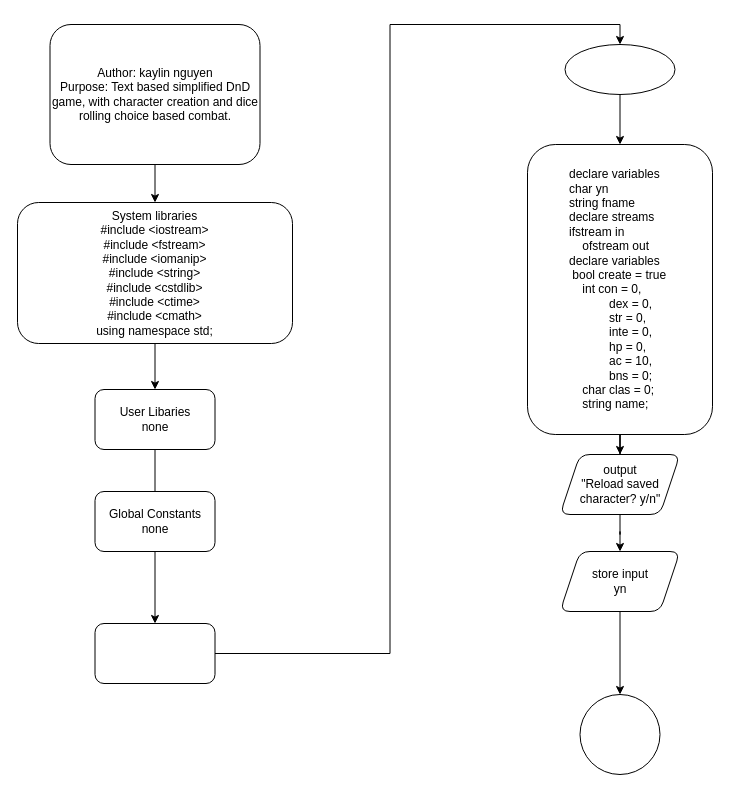
This 730x792 diagram has some shape labels left out. The centre of each missing label's shape, as x and y in pixels:
"Function prototypes none" belongs at (x=154, y=653).
"main" belongs at (x=619, y=69).
"page 2 //line 51" belongs at (x=619, y=734).
